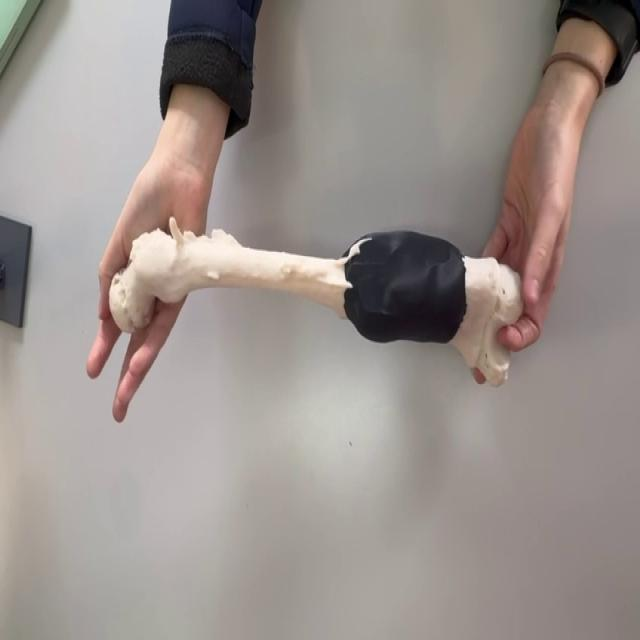bones: (109, 218, 523, 385)
